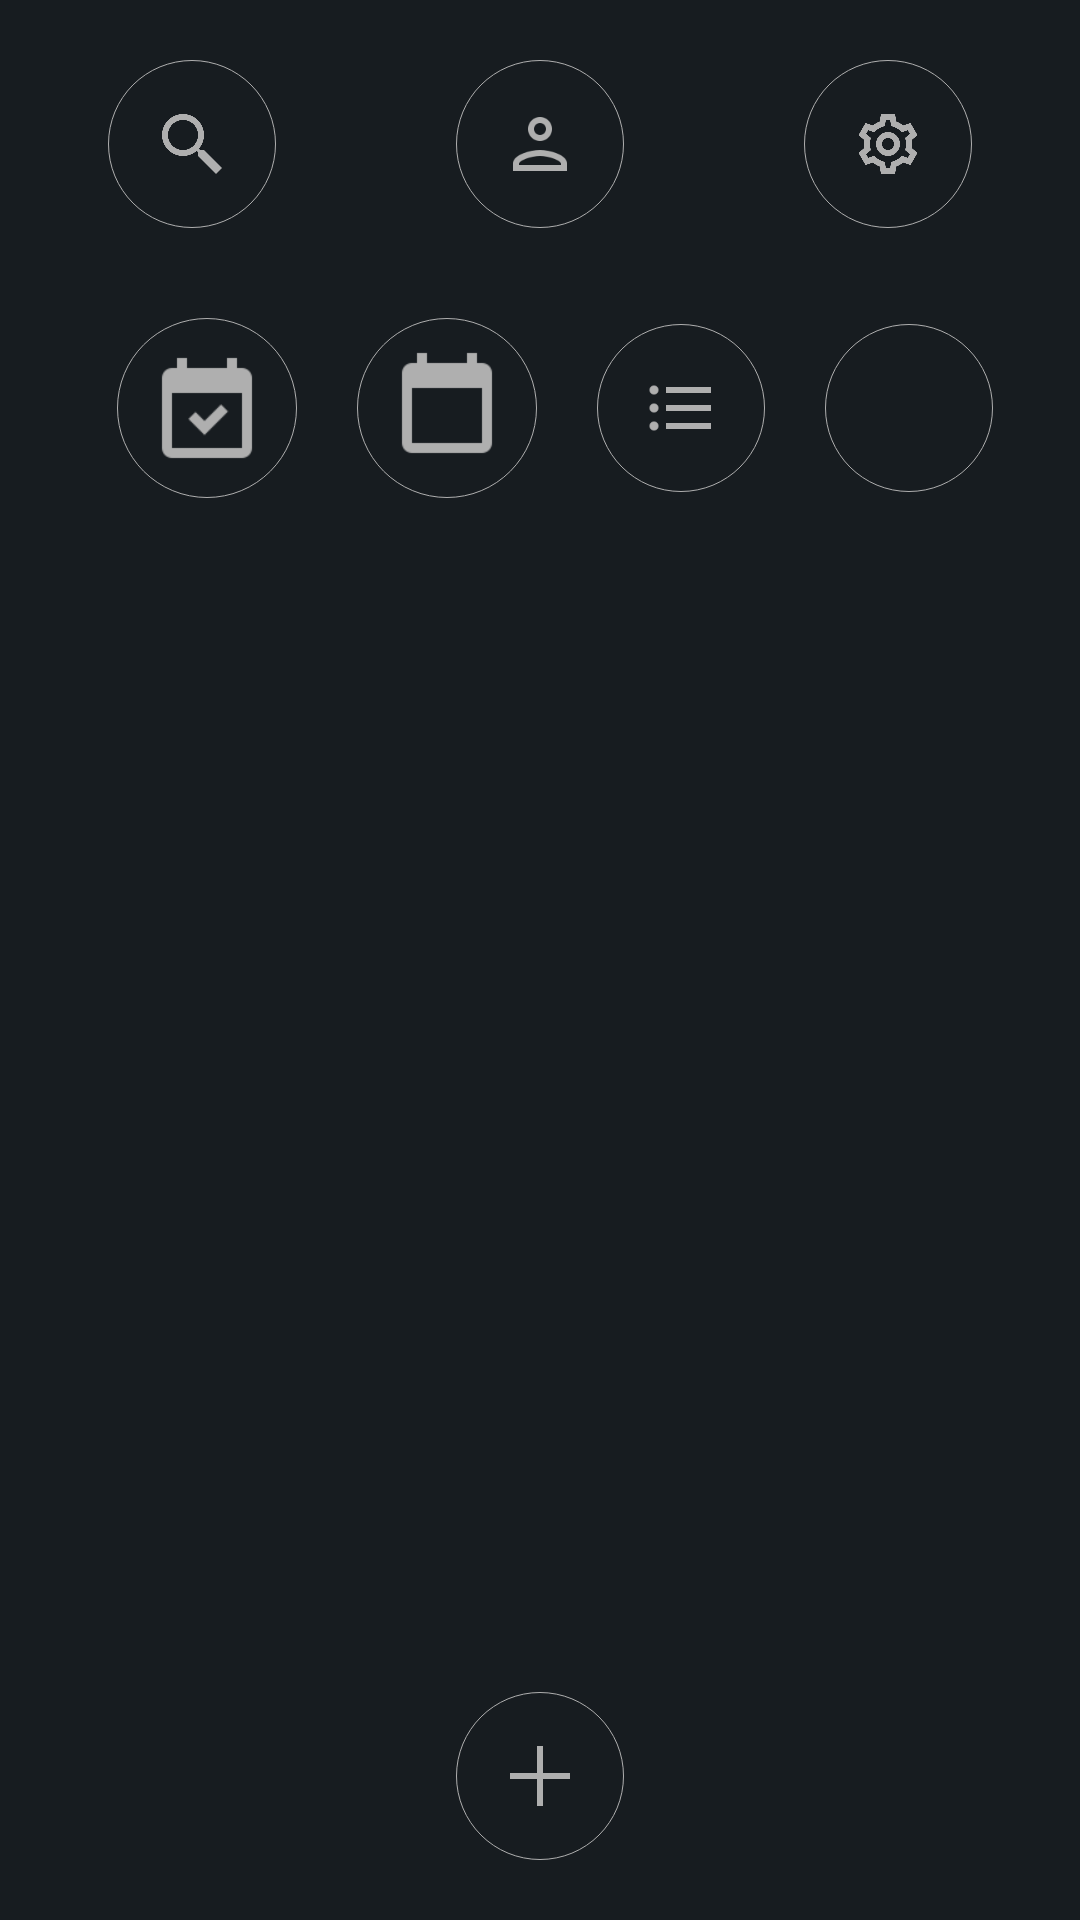

Screen size 1080px×1920px. Icon name, then its center in pixels as [x,y]:
iconadd: [540,1776]
iconcalendar: [447,403]
iconsearch: [192,144]
iconsettings: [888,144]
icontask: [681,408]
icontoday: [207,408]
iconuser: [540,144]
